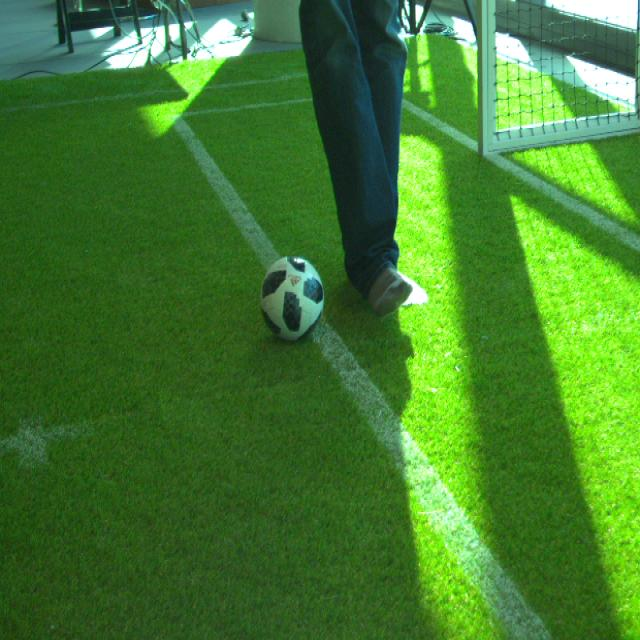ball: (258, 255, 324, 341)
goalpost: (478, 0, 494, 159)
